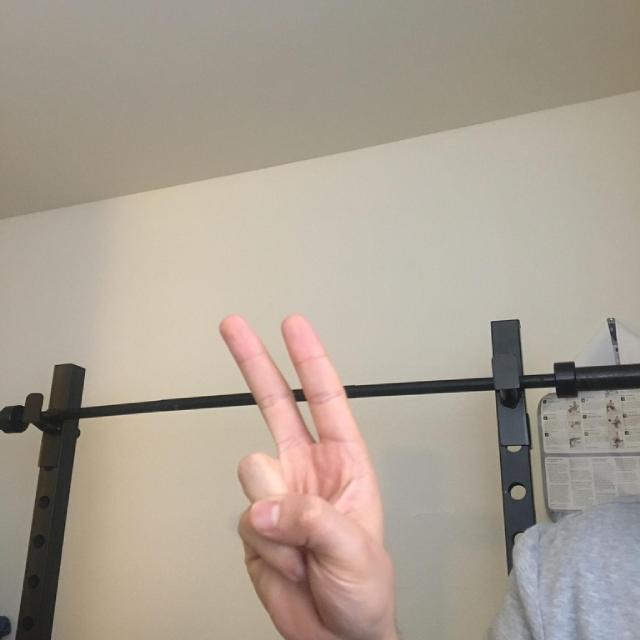V: (160, 225, 445, 640)
